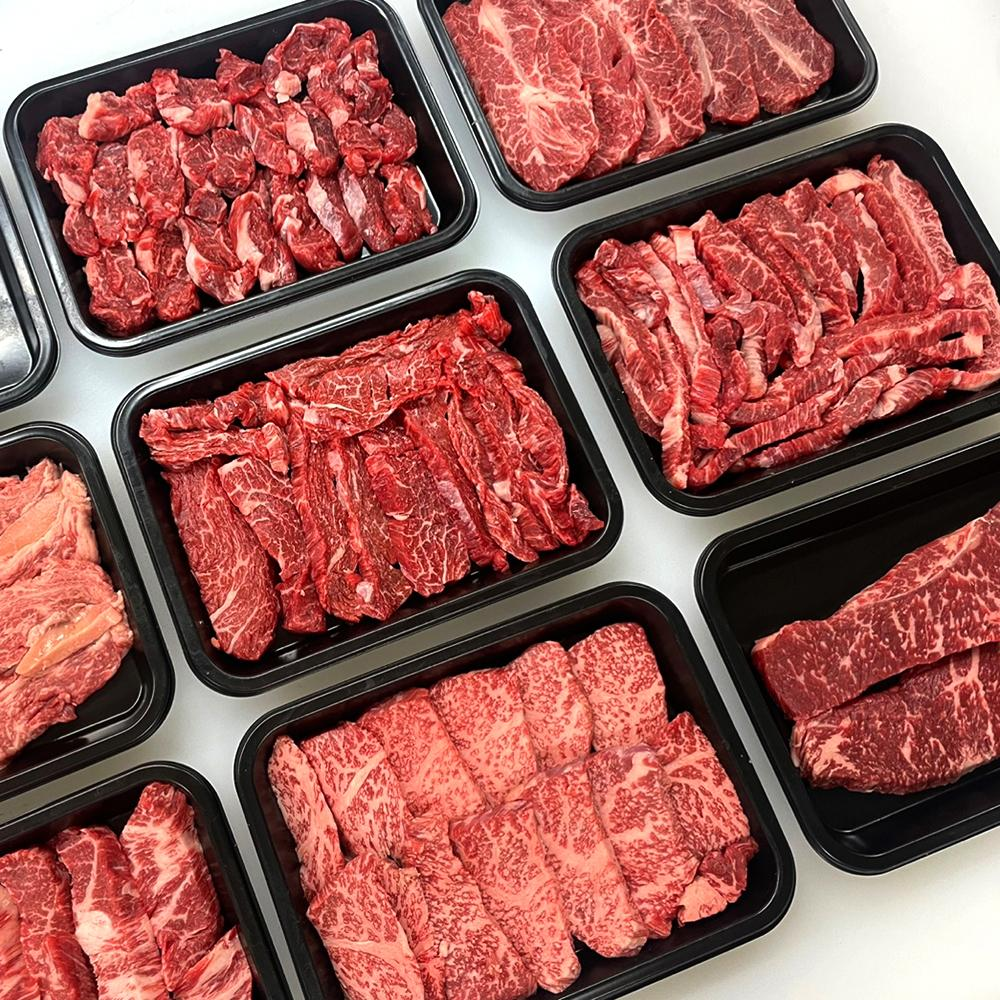beef: (278, 567, 900, 939), (120, 122, 647, 395), (481, 807, 1000, 1000), (749, 331, 1000, 639)
